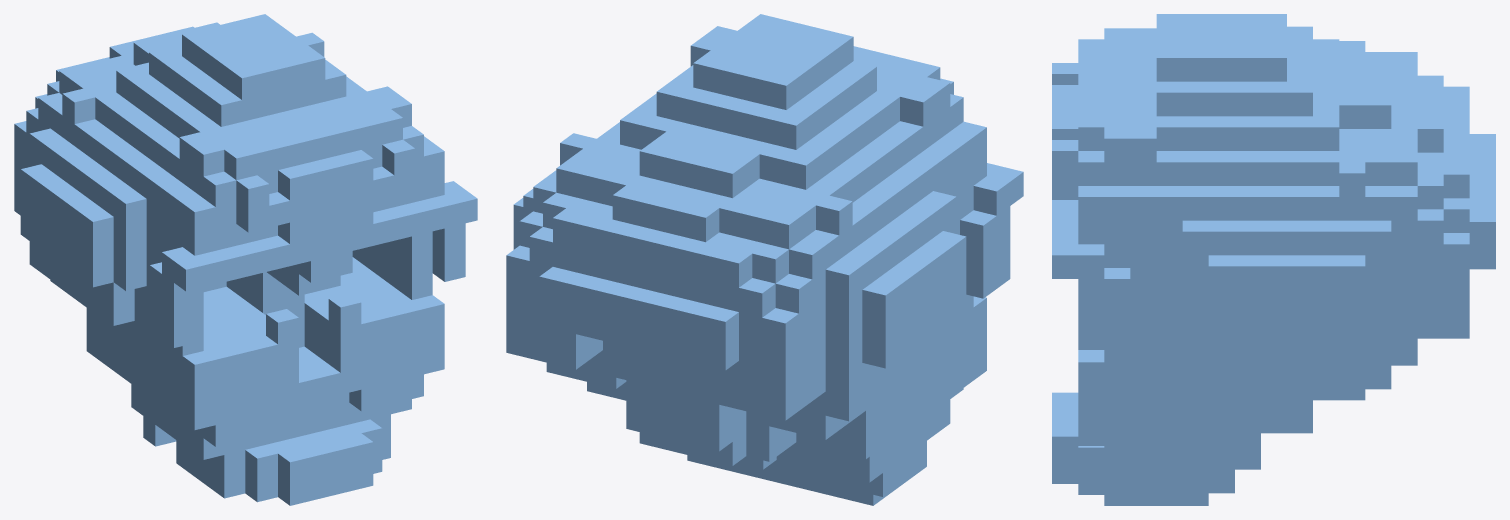
Rendered from skull.glb.
3 views of the same model, side by side, from view 1: azimuth 30°, elevation 25°; view 2: azimuth 150°, elevation 25°; view 3: azimuth 270°, elevation 25° (orthographic). The views are drawn at different scales.
Visible parts, largest first — view 1: skull; view 2: skull; view 3: skull.
Boxes of the visible parts, <box> form: skull: <box>14,14,477,505</box>; skull: <box>506,14,1023,505</box>; skull: <box>1052,14,1495,505</box>.
Bounding box in the file's own units: 1.6 × 1.8 × 1.7.
Materials: 1 (1 with a texture image).
